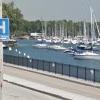Boat: (67, 44, 100, 64)
